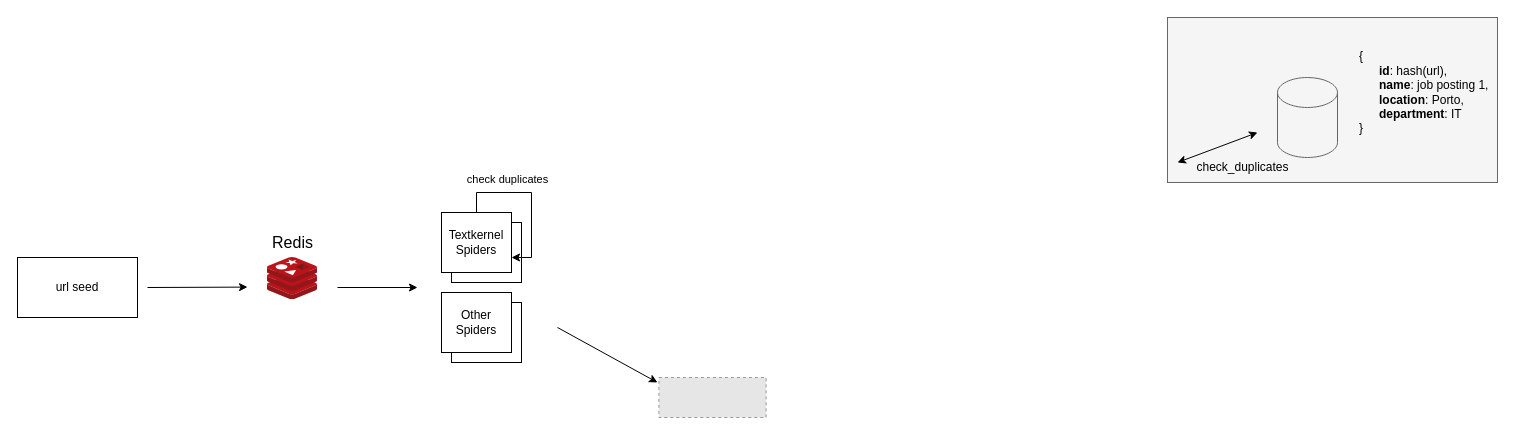
Some shapes in this 1515 by 435 pixel diagram are drawn without their labels. Grey dashed boxes stand in for pictures. The shapes that lost their labels are listed below. From the top down, each one's box as (x1, y1, x2, y2) in pixels, then its label:
(1276, 76, 1338, 158): Jobs DB
(267, 257, 317, 299): url frontier
